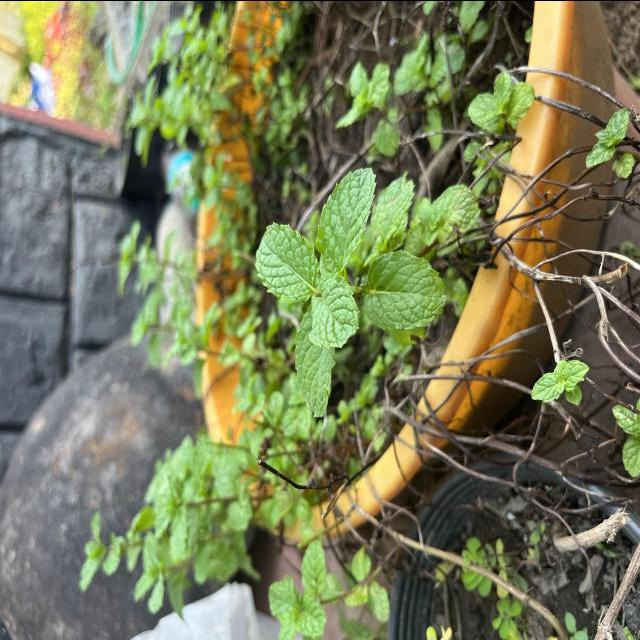Mentha spicata: (364, 248, 447, 332), (316, 166, 378, 274), (254, 220, 320, 302), (308, 271, 362, 350)
